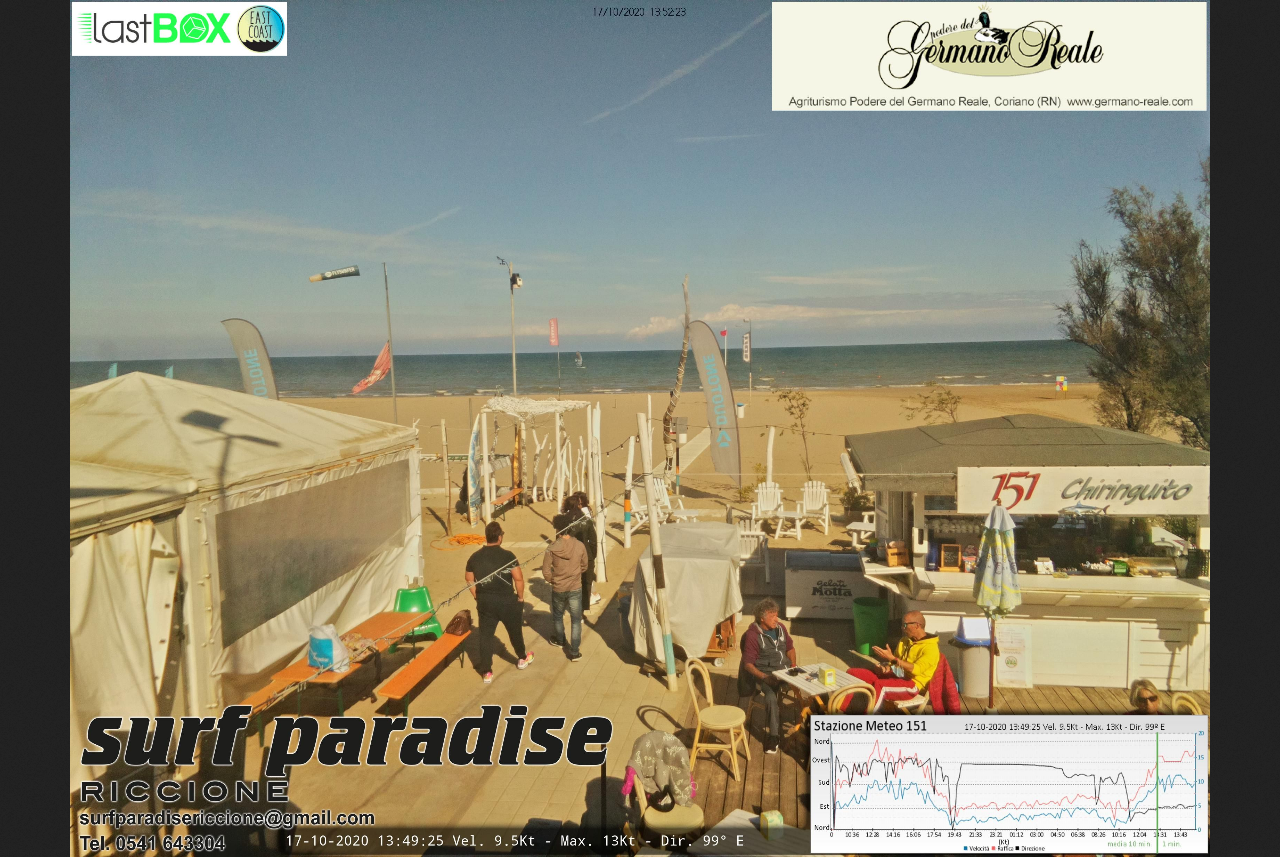maybe: (348, 336, 398, 398)
